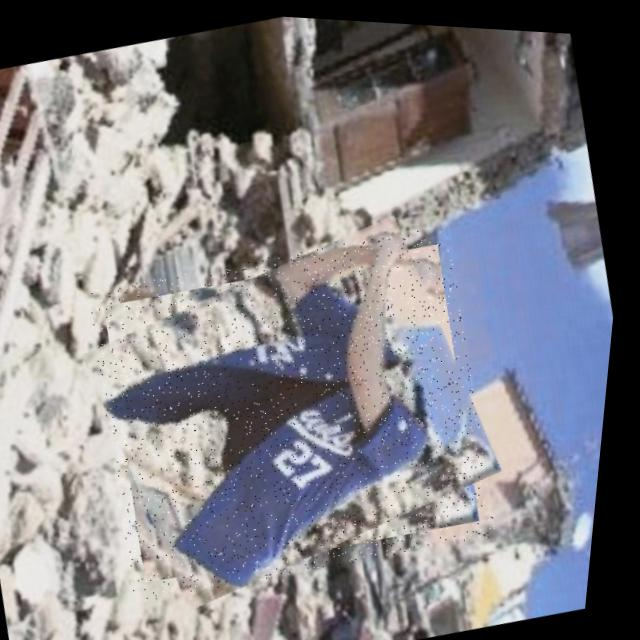Person in Rubble: (68, 201, 528, 617)
